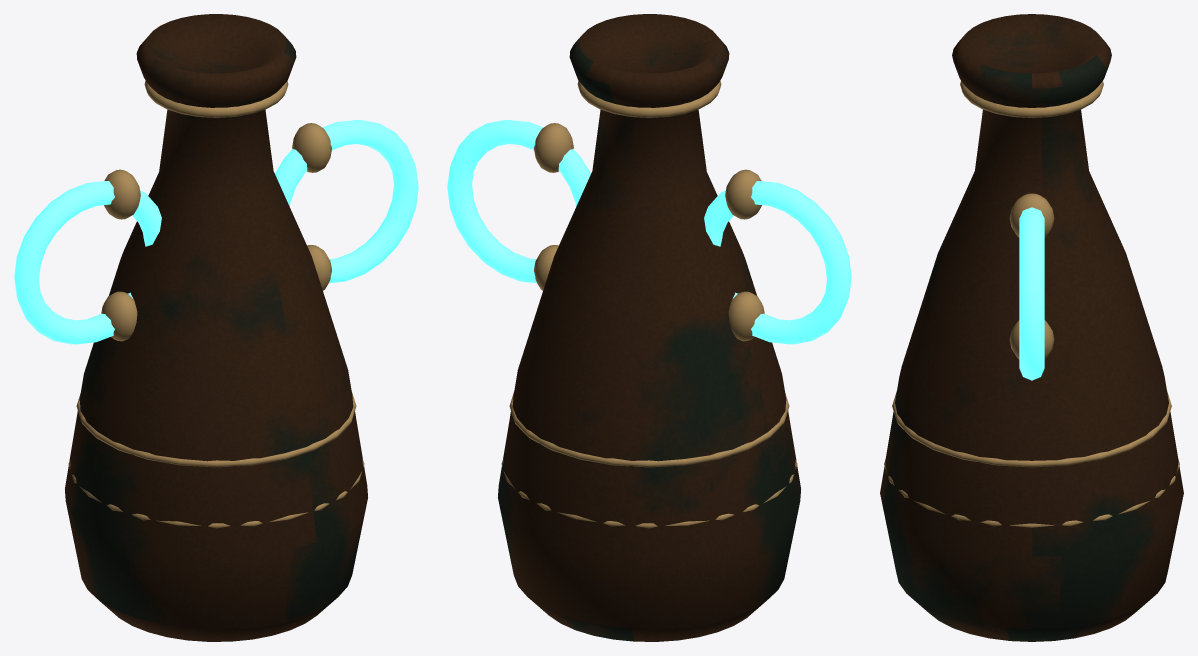
The model's file is amphora.fbx.
The picture shows the model from 3 angles, left to right: view 1: azimuth 30°, elevation 25°; view 2: azimuth 150°, elevation 25°; view 3: azimuth 270°, elevation 25°; orthographic projection.
Visible parts, largest first — view 1: Reviewed_amphora_Body.119, TH10_Amphora_Handle.238, TH10_Amphora_Handle.237; view 2: Reviewed_amphora_Body.119, TH10_Amphora_Handle.238, TH10_Amphora_Handle.237; view 3: Reviewed_amphora_Body.119, TH10_Amphora_Handle.237.
Boxes of the visible parts, <box> form: Reviewed_amphora_Body.119: <box>65,14,367,641</box>; TH10_Amphora_Handle.238: <box>14,181,161,344</box>; TH10_Amphora_Handle.237: <box>275,120,418,283</box>; Reviewed_amphora_Body.119: <box>498,14,800,641</box>; TH10_Amphora_Handle.238: <box>704,181,851,344</box>; TH10_Amphora_Handle.237: <box>447,120,590,283</box>; Reviewed_amphora_Body.119: <box>880,14,1183,641</box>; TH10_Amphora_Handle.237: <box>1019,207,1044,380</box>.
Bounding box in the file's own units: 0.29 × 0.38 × 0.19.
Materials: 3 (1 with a texture image).
